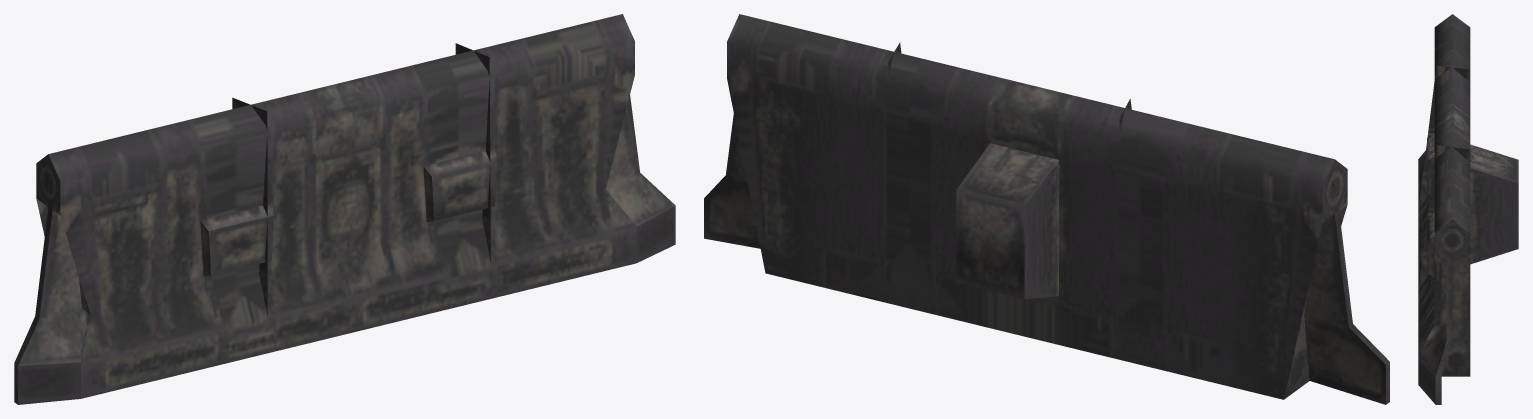
3 renders of one model, left to right at view 1: azimuth 30°, elevation 25°; view 2: azimuth 150°, elevation 25°; view 3: azimuth 270°, elevation 25°, orthographic. The views are drawn at different scales.
Parts seen in each view (by area): view 1: set_0_group_0; view 2: set_0_group_0; view 3: set_0_group_0.
Part boxes in pixels (bbox=[...]): set_0_group_0: bbox=[14, 14, 675, 404]; set_0_group_0: bbox=[704, 14, 1389, 404]; set_0_group_0: bbox=[1418, 14, 1518, 404].
Size of the model in its own units: 0.914 by 0.3085 by 0.1646.
1 material, 1 textured.
